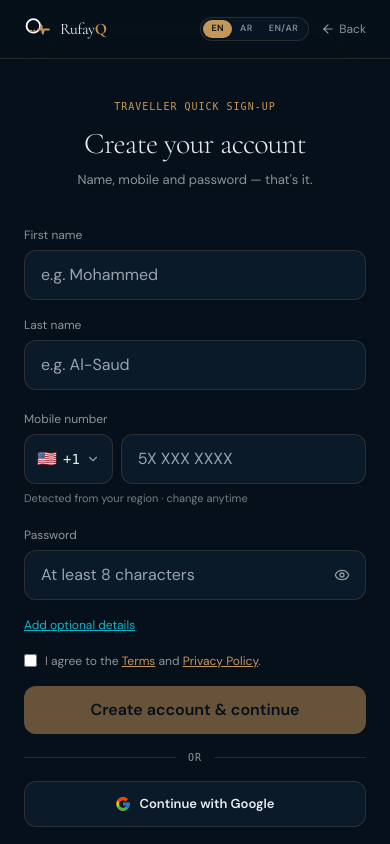
Test: QuickSignup › does not silently default nationality to Saudi Arabia when optional details untouched
Click the button "Add optional details" at (80, 625), box x1=24 y1=616 x2=135 y2=634
(page scrolled)
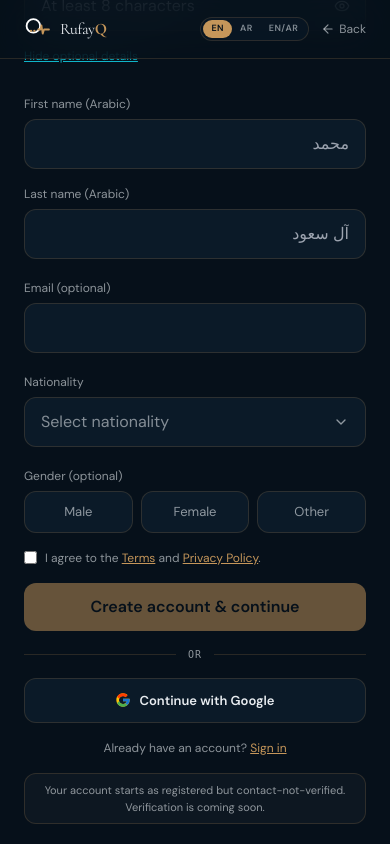
Check: the text "Select nationality" is shown, box x1=41 y1=410 x2=169 y2=434
